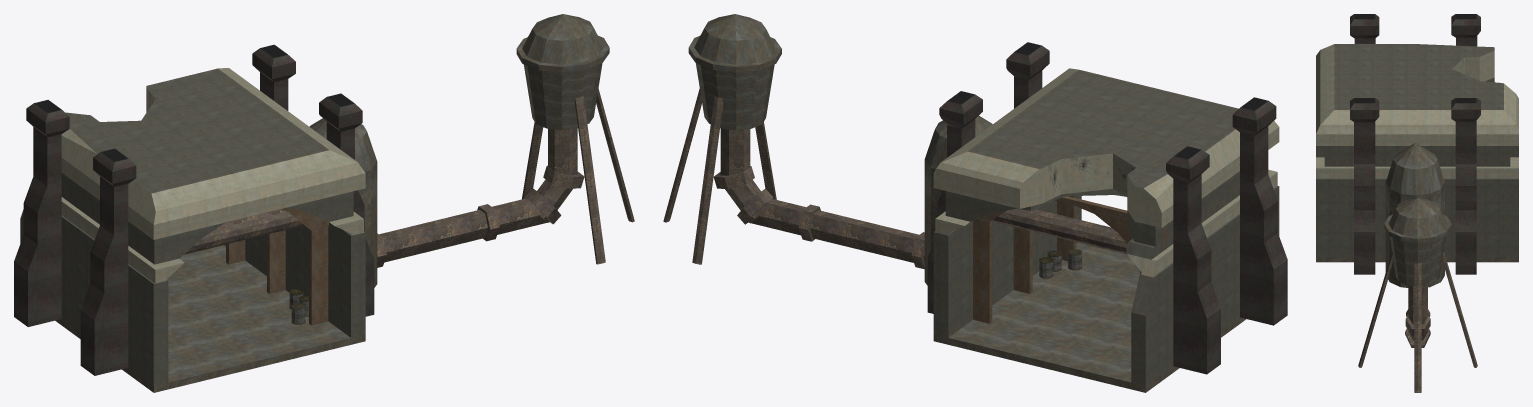
File: arch1.fbx
The picture shows the model from 3 angles, left to right: view 1: azimuth 30°, elevation 25°; view 2: azimuth 150°, elevation 25°; view 3: azimuth 270°, elevation 25°; orthographic projection. The views are drawn at different scales.
Visible parts, largest first — view 1: Object; view 2: Object; view 3: Object.
Part boxes in pixels (x1=…): Object: x1=14, y1=14, x2=634, y2=392; Object: x1=663, y1=14, x2=1287, y2=392; Object: x1=1316, y1=14, x2=1518, y2=392.
Size of the model in its own units: 24128 by 8959 by 9600.
